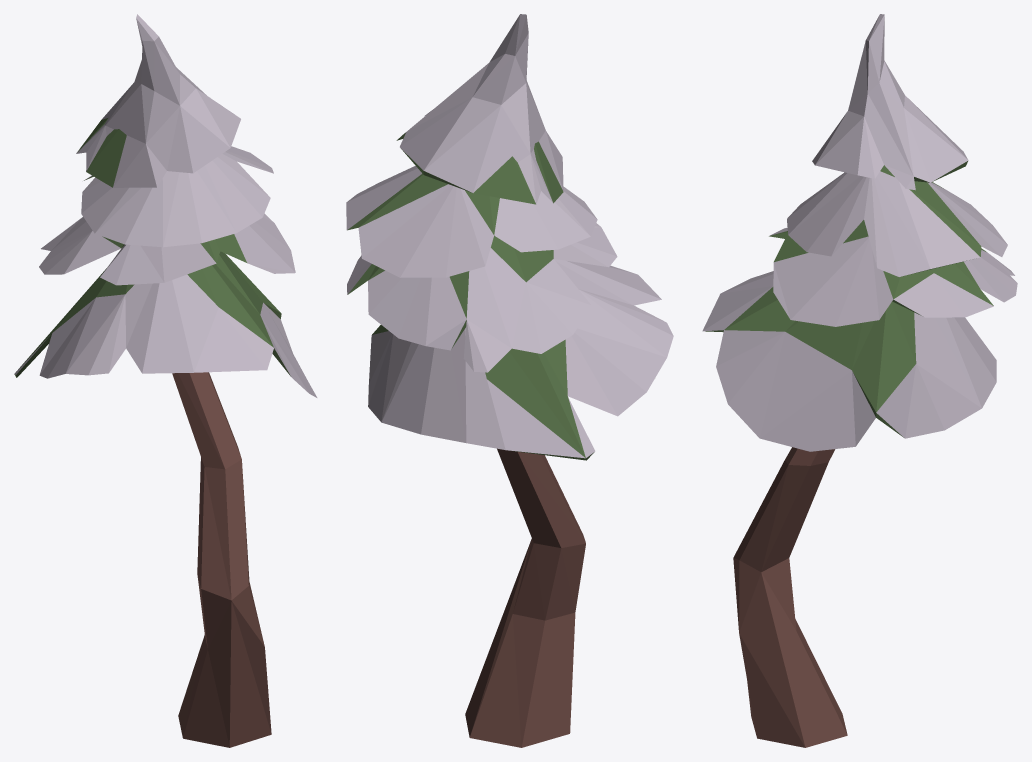
Rendered from PineTree_Snow_4.lod2.glb.
3 renders of one model, left to right at view 1: azimuth 30°, elevation 25°; view 2: azimuth 150°, elevation 25°; view 3: azimuth 270°, elevation 25°, orthographic. The views are drawn at different scales.
Parts seen in each view (by area): view 1: PineTree_Snow_4; view 2: PineTree_Snow_4; view 3: PineTree_Snow_4.
Part boxes in pixels (<box>): PineTree_Snow_4: <box>14,14,317,747</box>; PineTree_Snow_4: <box>346,14,673,747</box>; PineTree_Snow_4: <box>702,14,1017,747</box>.
Size of the model in its own units: 1.24 by 3.35 by 1.39.
